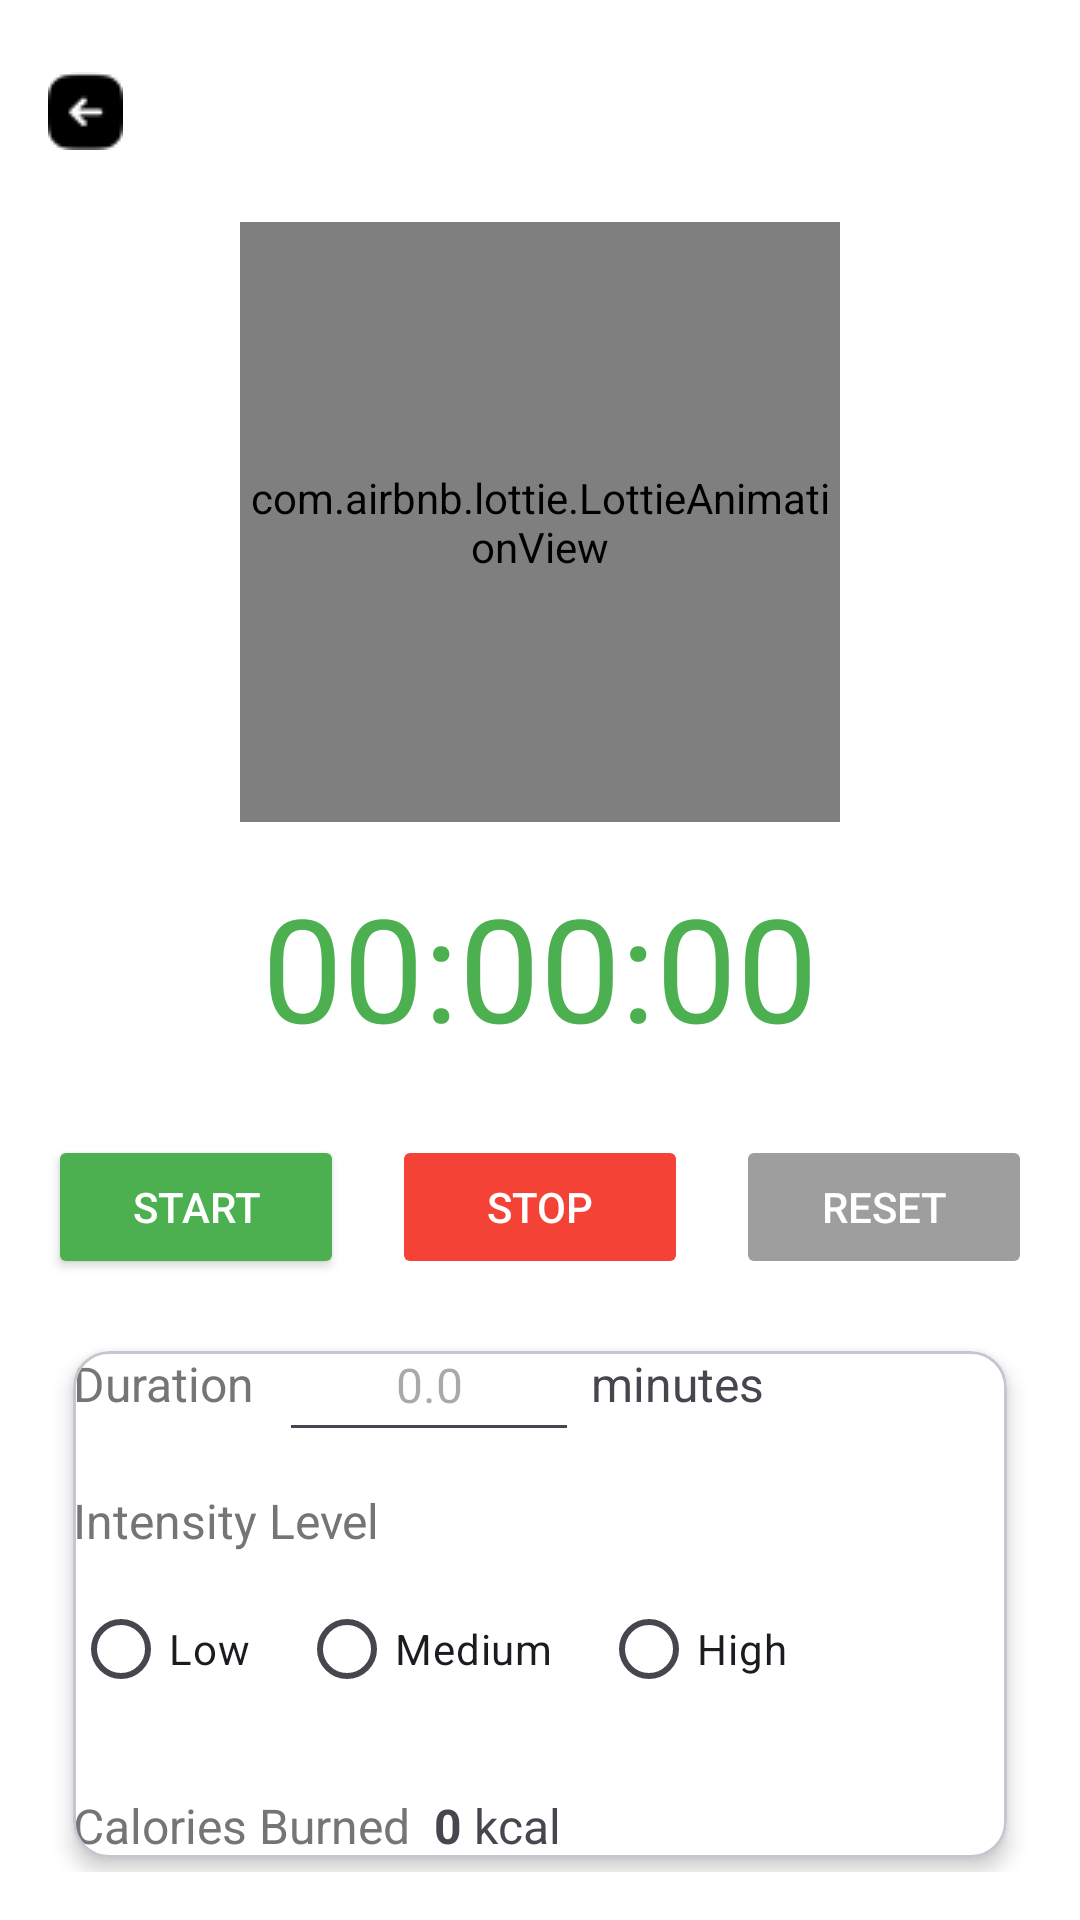

Icon click points for this 1080px×1920px phone screenshot, format (x=x, y=y):
Back: (x=85, y=112)
